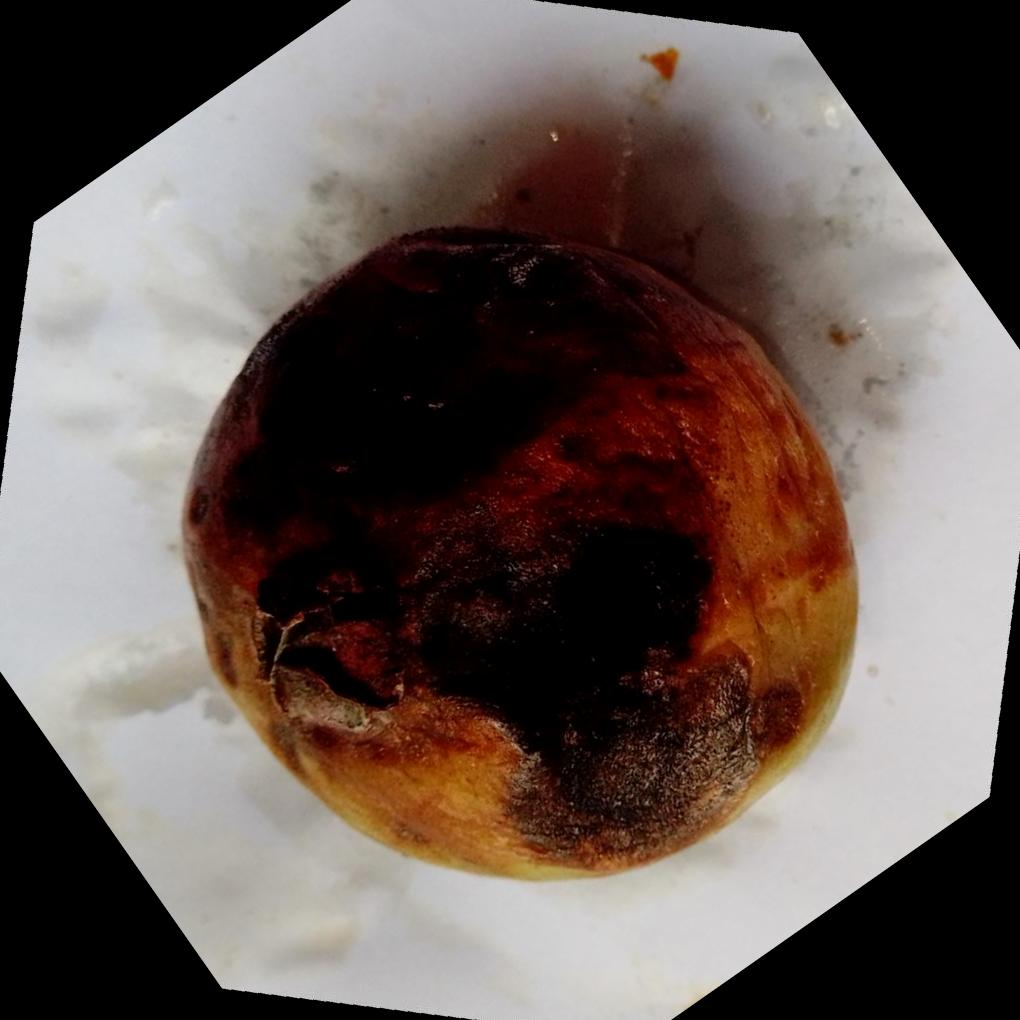FreshOrange: (181, 220, 864, 883)
